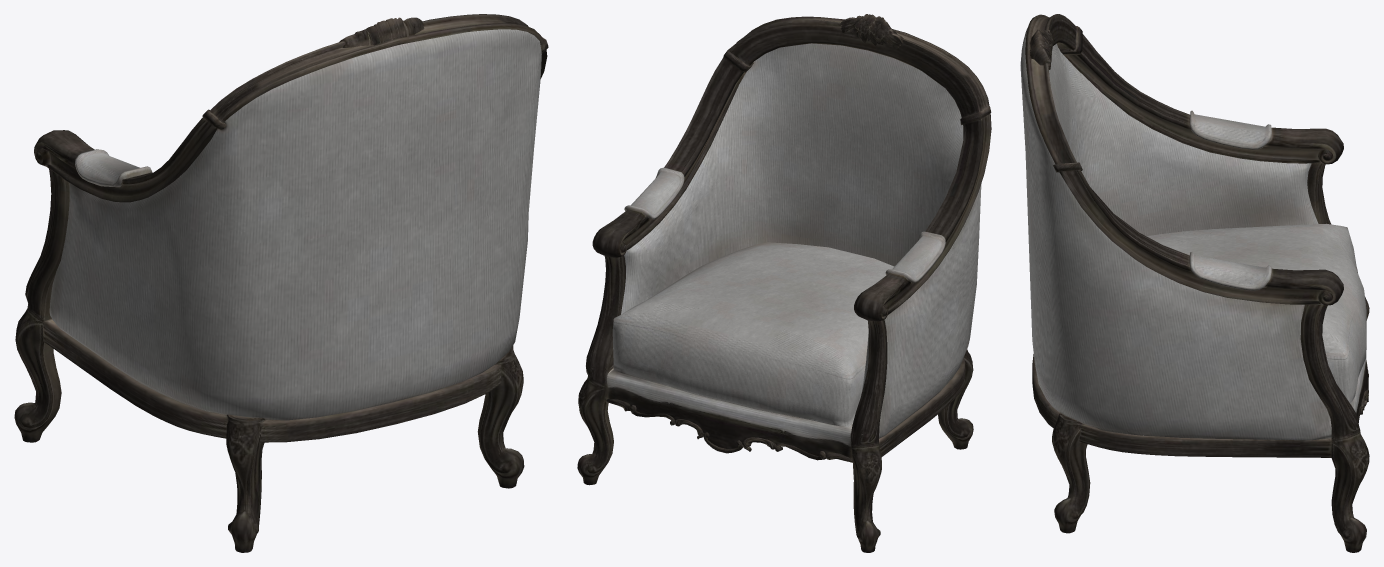
3 views of the same model, side by side, from view 1: azimuth 30°, elevation 25°; view 2: azimuth 150°, elevation 25°; view 3: azimuth 270°, elevation 25° (orthographic). The views are drawn at different scales.
Parts seen in each view (by area): view 1: ArmChair_01; view 2: ArmChair_01; view 3: ArmChair_01.
Part boxes in pixels (left/top/right/bottom): ArmChair_01: left=14, top=14, right=548, bottom=552; ArmChair_01: left=577, top=14, right=991, bottom=552; ArmChair_01: left=1020, top=14, right=1369, bottom=552.
Bounding box in the file's own units: 75.68 × 95 × 68.3.
Materials: 1 (1 with a texture image).
